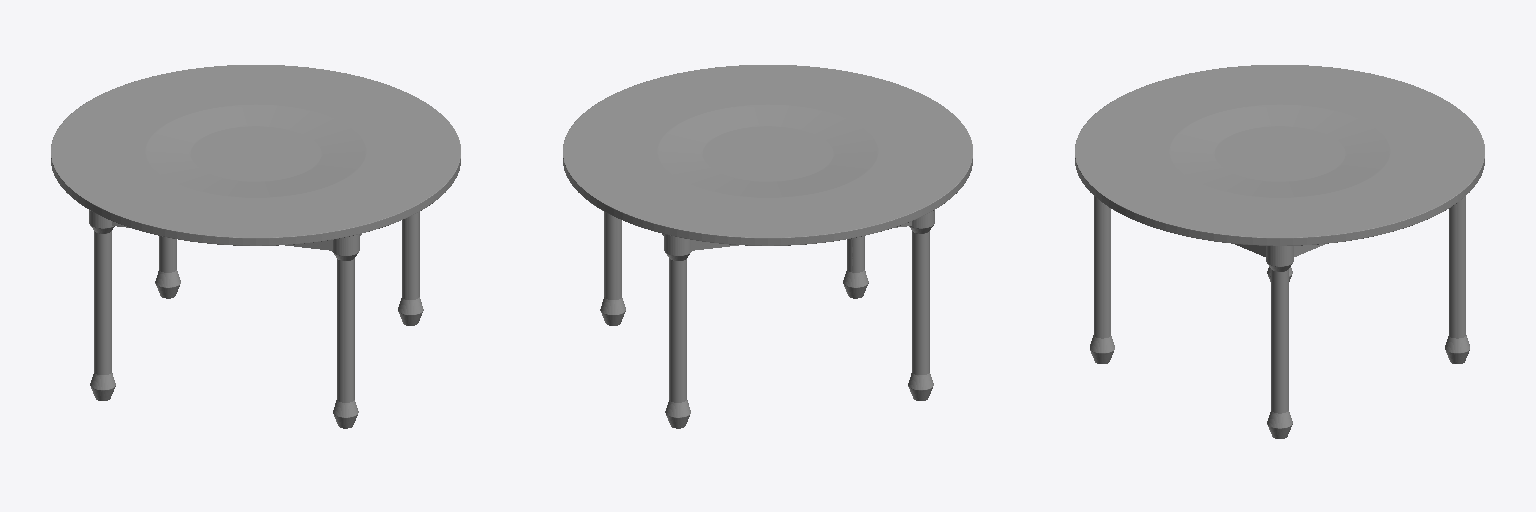
The model's file is mesa6.obj.
3 views of the same model, side by side, from view 1: azimuth 30°, elevation 25°; view 2: azimuth 150°, elevation 25°; view 3: azimuth 270°, elevation 25° (orthographic).
Visible parts, largest first — view 1: Table_Circle.004; view 2: Table_Circle.004; view 3: Table_Circle.004.
Part boxes in pixels (x1,y1,x2,y2): Table_Circle.004: (51, 65, 460, 428); Table_Circle.004: (563, 65, 972, 428); Table_Circle.004: (1075, 65, 1484, 438).
Size of the model in its own units: 116 by 65.5 by 116.